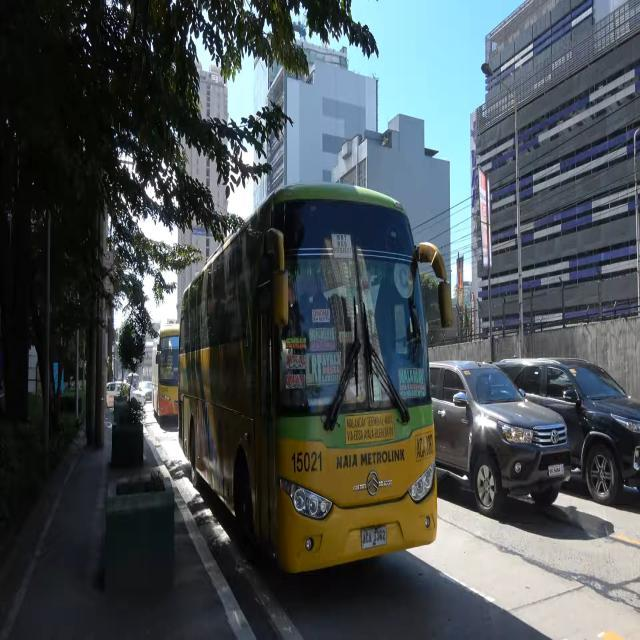bus: (176, 180, 444, 584), (150, 318, 180, 431)
car: (428, 356, 571, 514), (493, 356, 640, 505), (106, 378, 146, 409)
